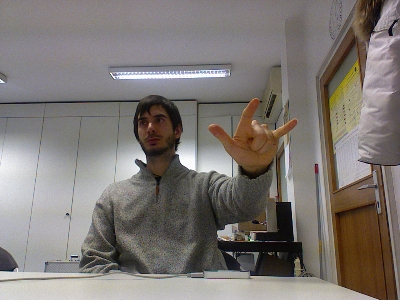我爱你: (207, 97, 297, 173)
